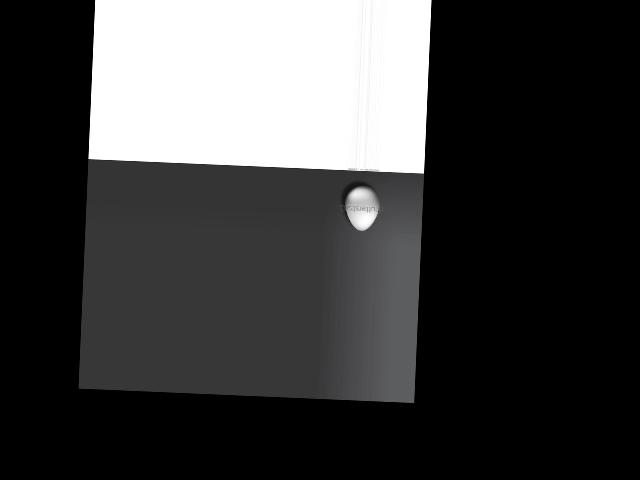egg: (343, 185, 380, 232)
